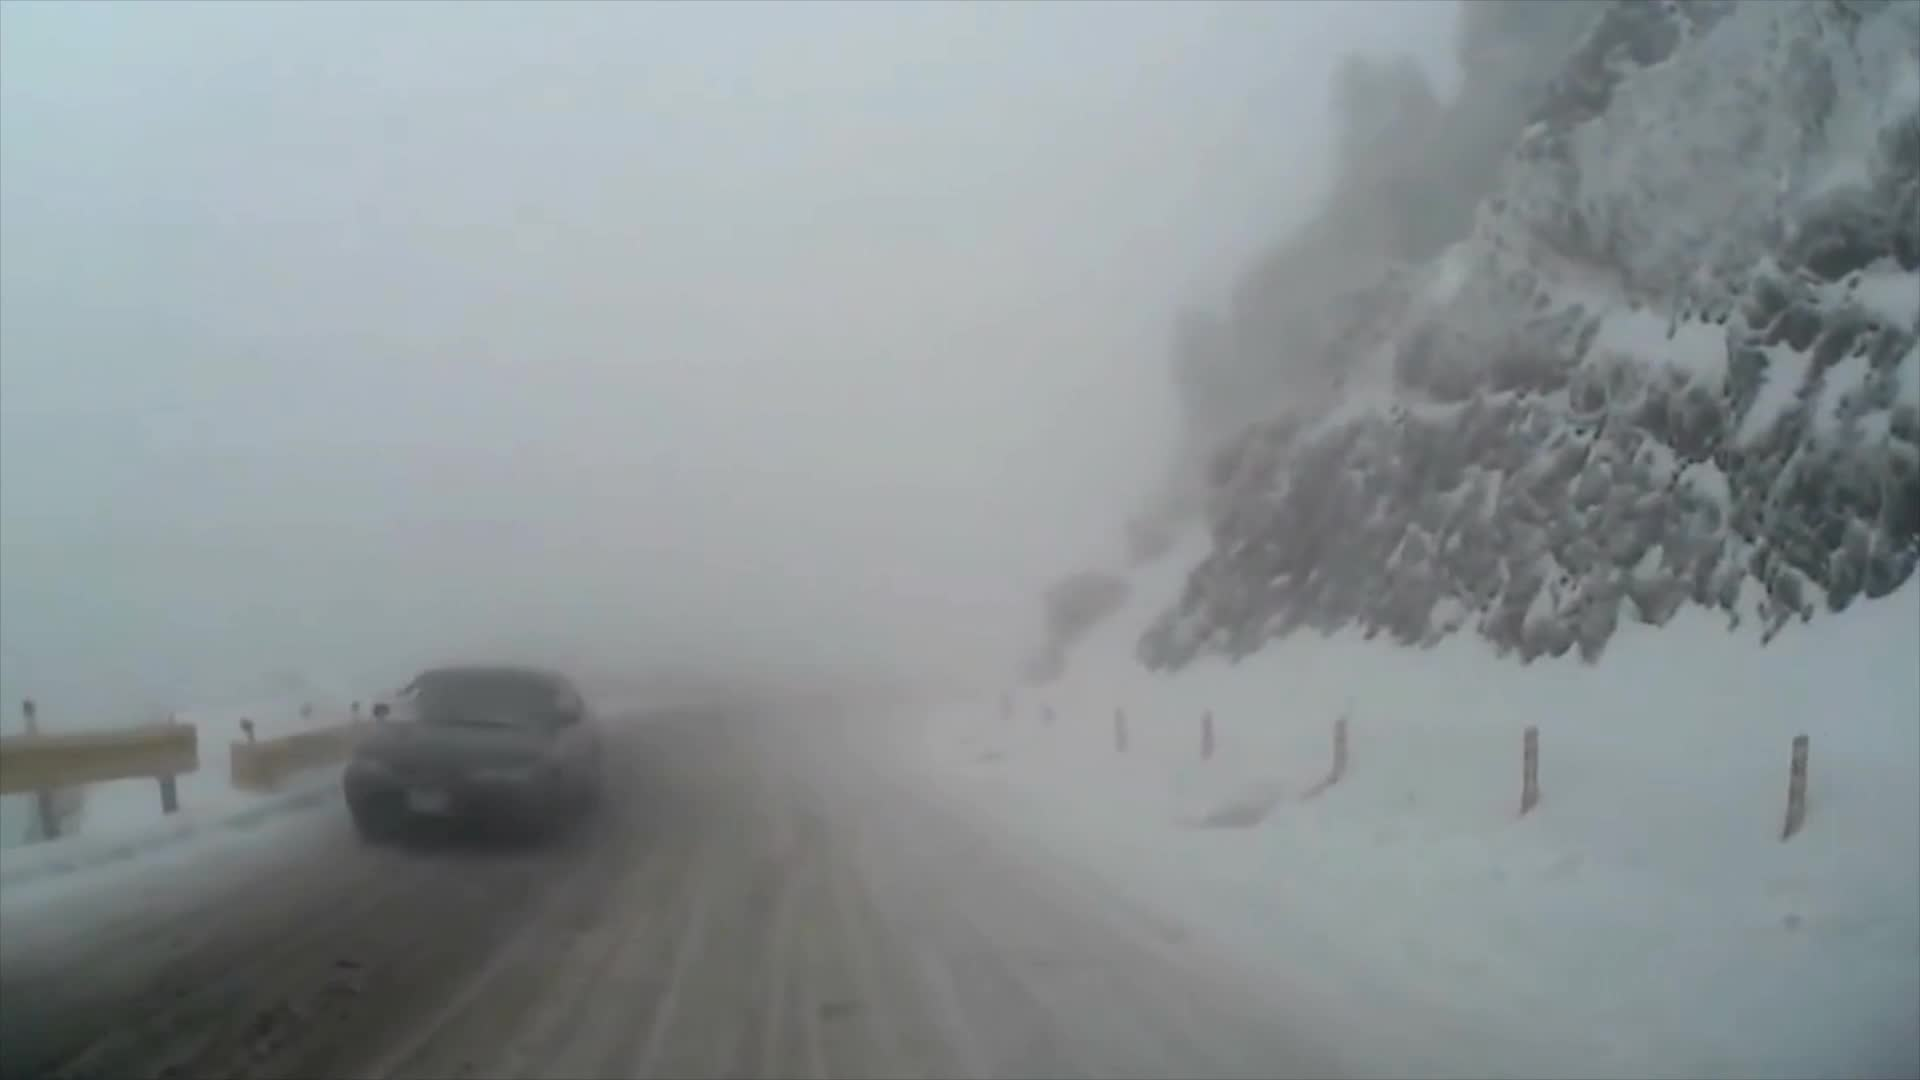vehicle: (339, 665, 603, 851)
